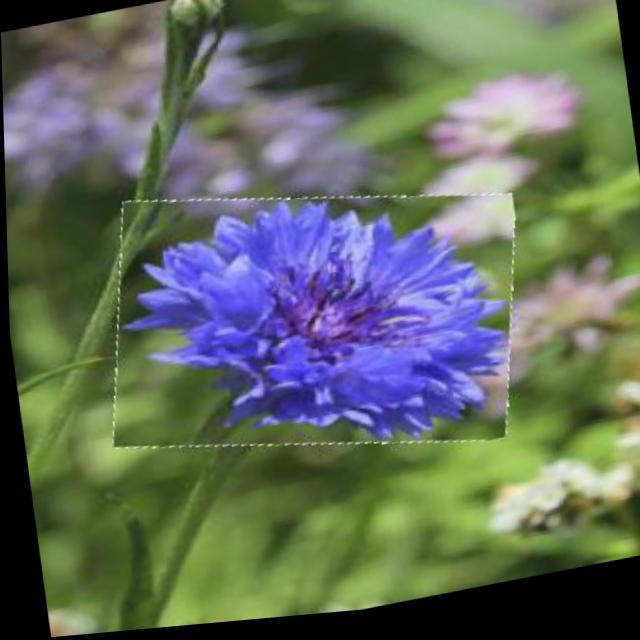Flower: (90, 152, 534, 500)
